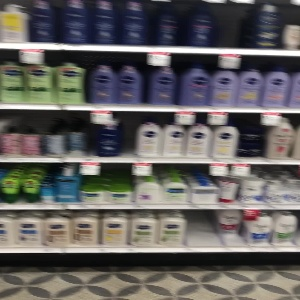void: (188, 210, 246, 246)
